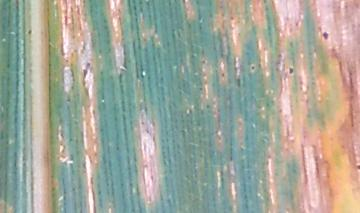tarspot: (320, 29, 331, 42), (286, 66, 297, 76), (203, 102, 214, 111), (248, 63, 258, 72), (25, 28, 34, 37), (197, 84, 205, 93), (355, 161, 360, 175), (201, 58, 209, 66), (145, 129, 152, 138), (139, 118, 145, 126), (221, 71, 225, 79)
